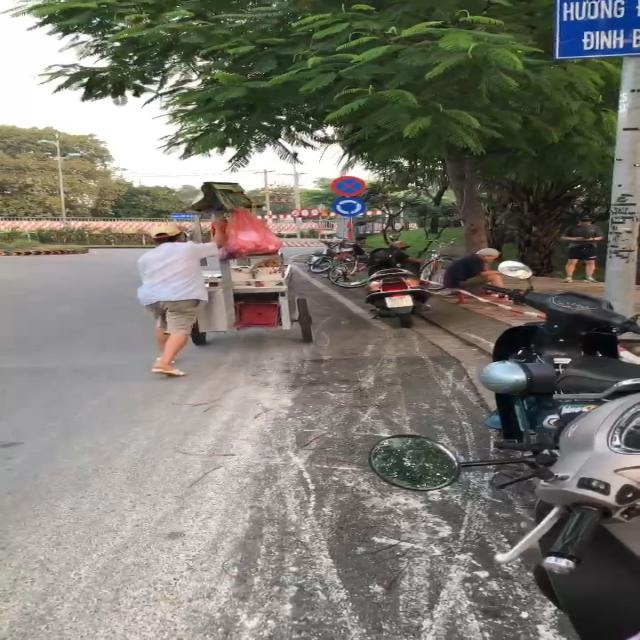Bien bao cam dung xe va do xe: (328, 173, 373, 196)
Bien bao noi giao nhau chay theo vong xuyen: (330, 196, 370, 218)
